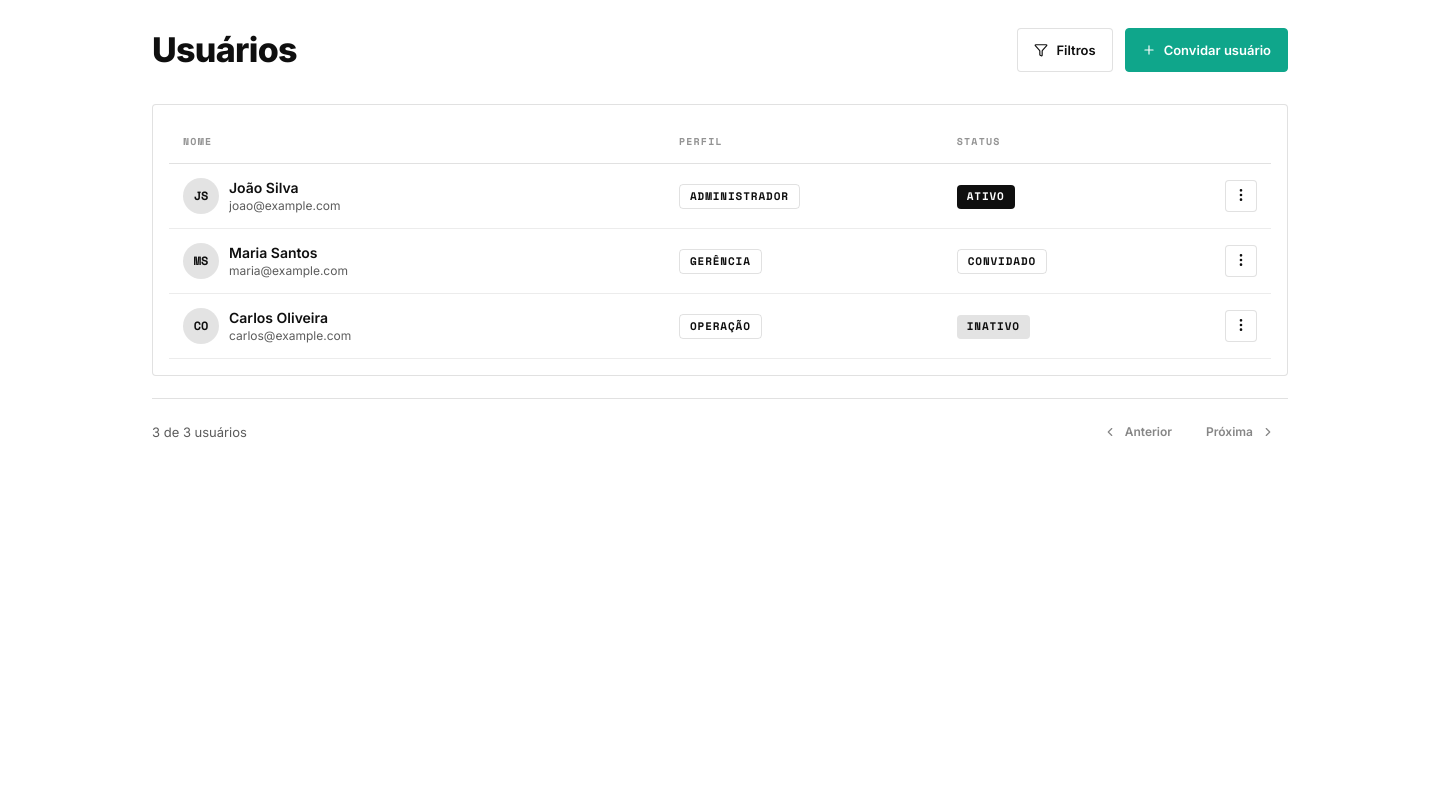
Test case: Usuarios — ADMIN/SUPORTE (veem tudo, criam tudo) › filters the list by perfil
Check: the text "João Silva" is shown, box [229,179,299,196]
Step 1. Click the button "Filtros" → (1065, 50), box [1018,28,1113,72]
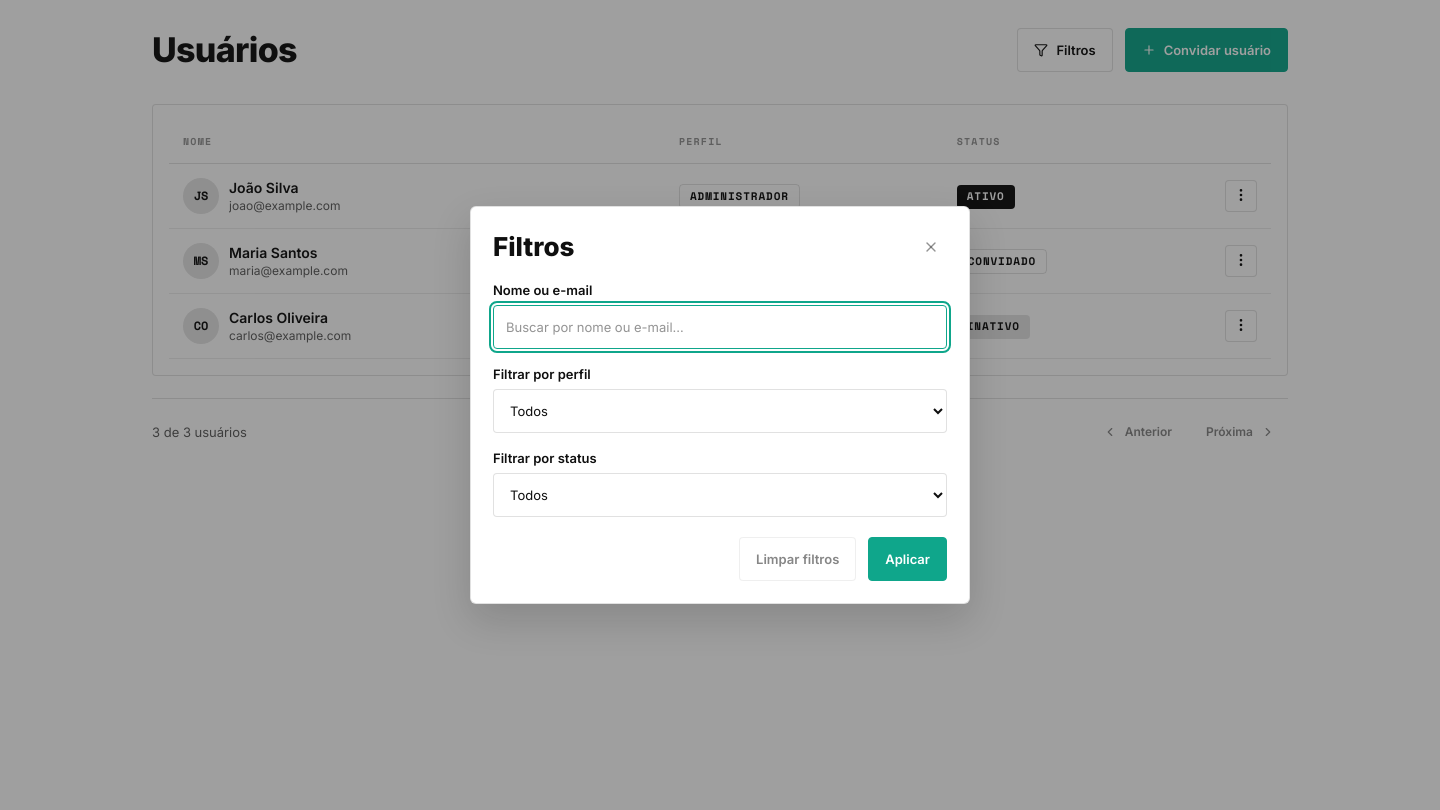
Step 2. Select "Gerência" in the dropdown labelled "Filtrar por perfil" → (720, 411), box [493,389,947,433]
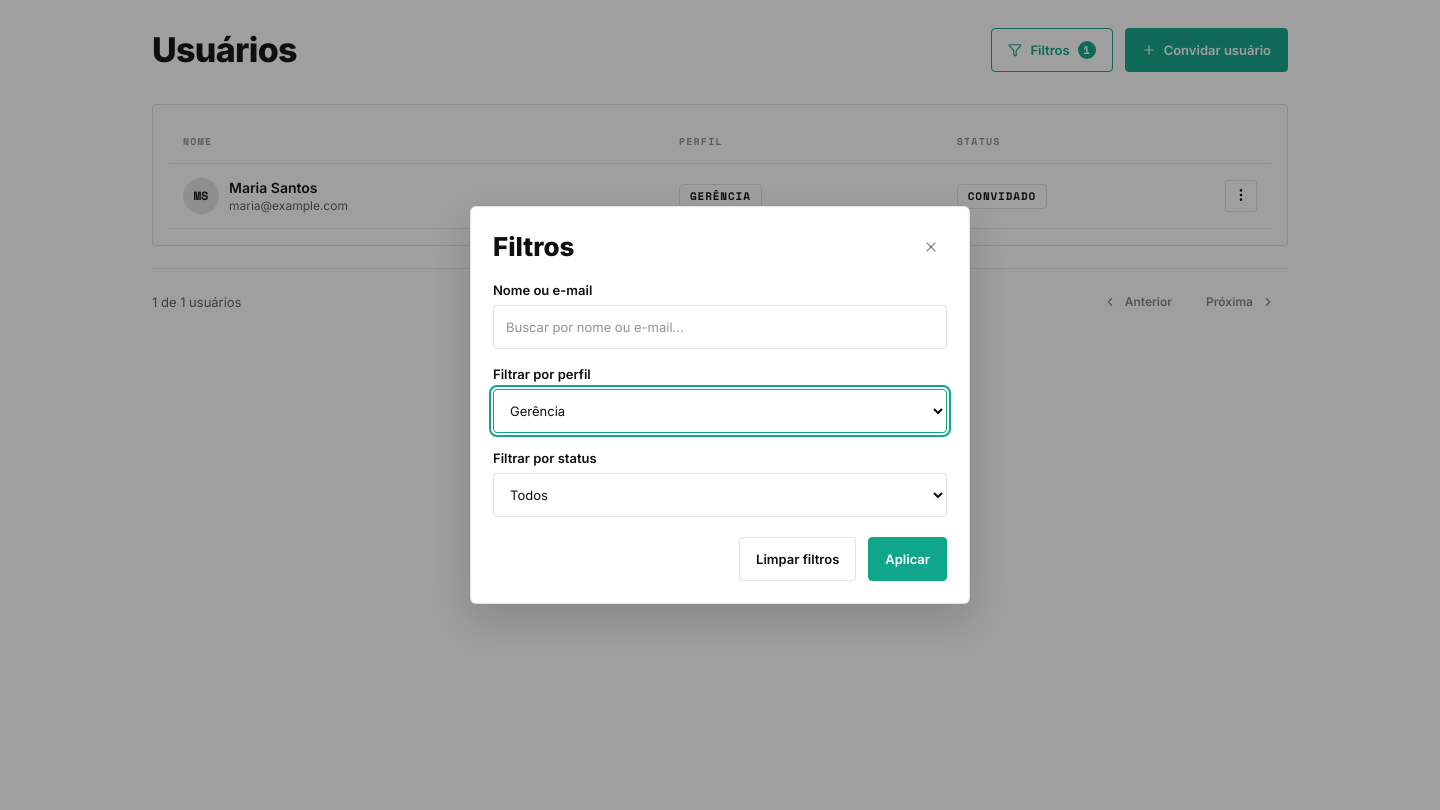
Check: the text "Maria Santos" is shown, box [229,179,318,196]
Check: the text "João Silva" is gone
Check: the text "Carlos Oliveira" is gone
